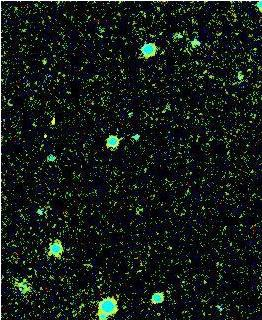star: (34, 128, 64, 158)
